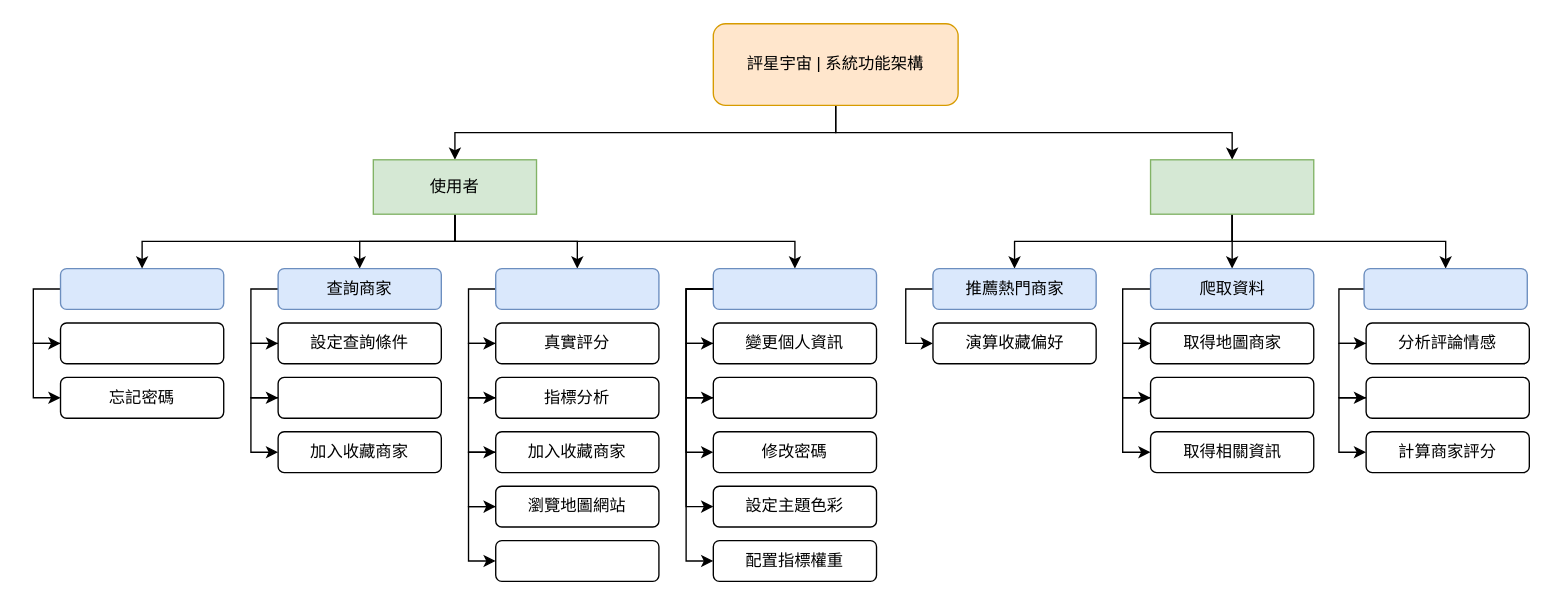
Some shapes in this 1553 by 605 pixel diagram are drawn without their labels. Here are the shapes that lost their labels. From the top down, the centre of each, then its label:
point (1231, 186): 系統
point (141, 288): 註冊會員
point (576, 288): 檢視資訊
point (794, 288): 會員資料
point (1445, 288): 文本分析
point (141, 343): 登入會員
point (359, 397): 標籤快速查詢
point (794, 397): 檢視我的收藏
point (1231, 397): 取得所有評論
point (1447, 397): 劃分指標類型
point (576, 560): 瀏覽官方網站
